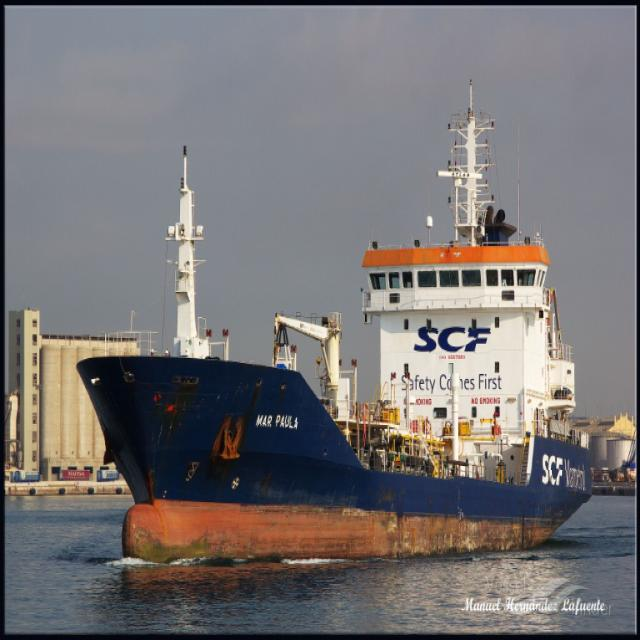OCR: (405, 313, 491, 363), (534, 444, 594, 503), (250, 402, 300, 442)
